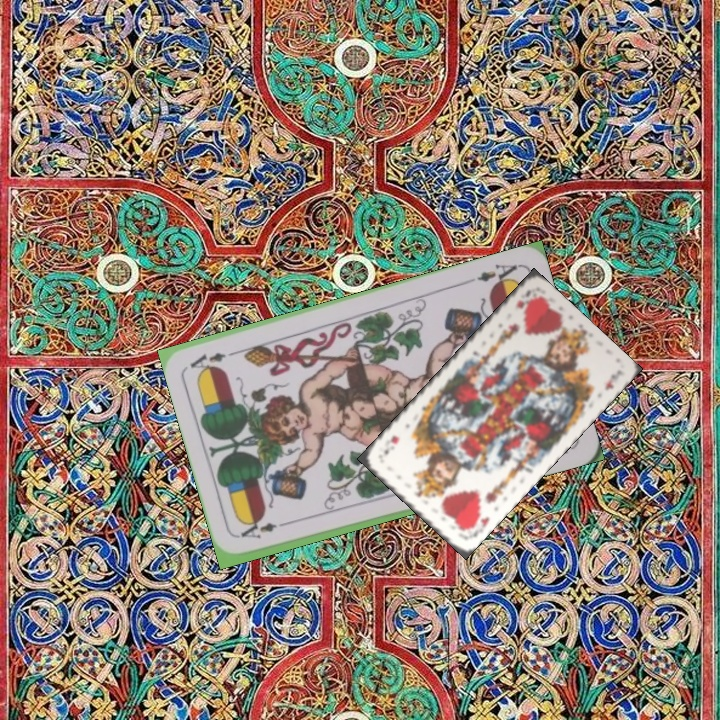EA: (464, 259, 522, 289), (236, 516, 294, 542)
HK: (460, 510, 492, 541), (512, 286, 537, 312)
